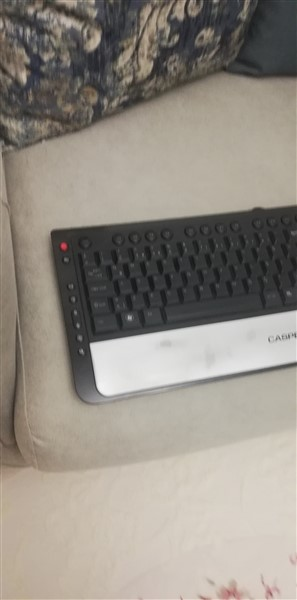klavye: (45, 215, 297, 403)
